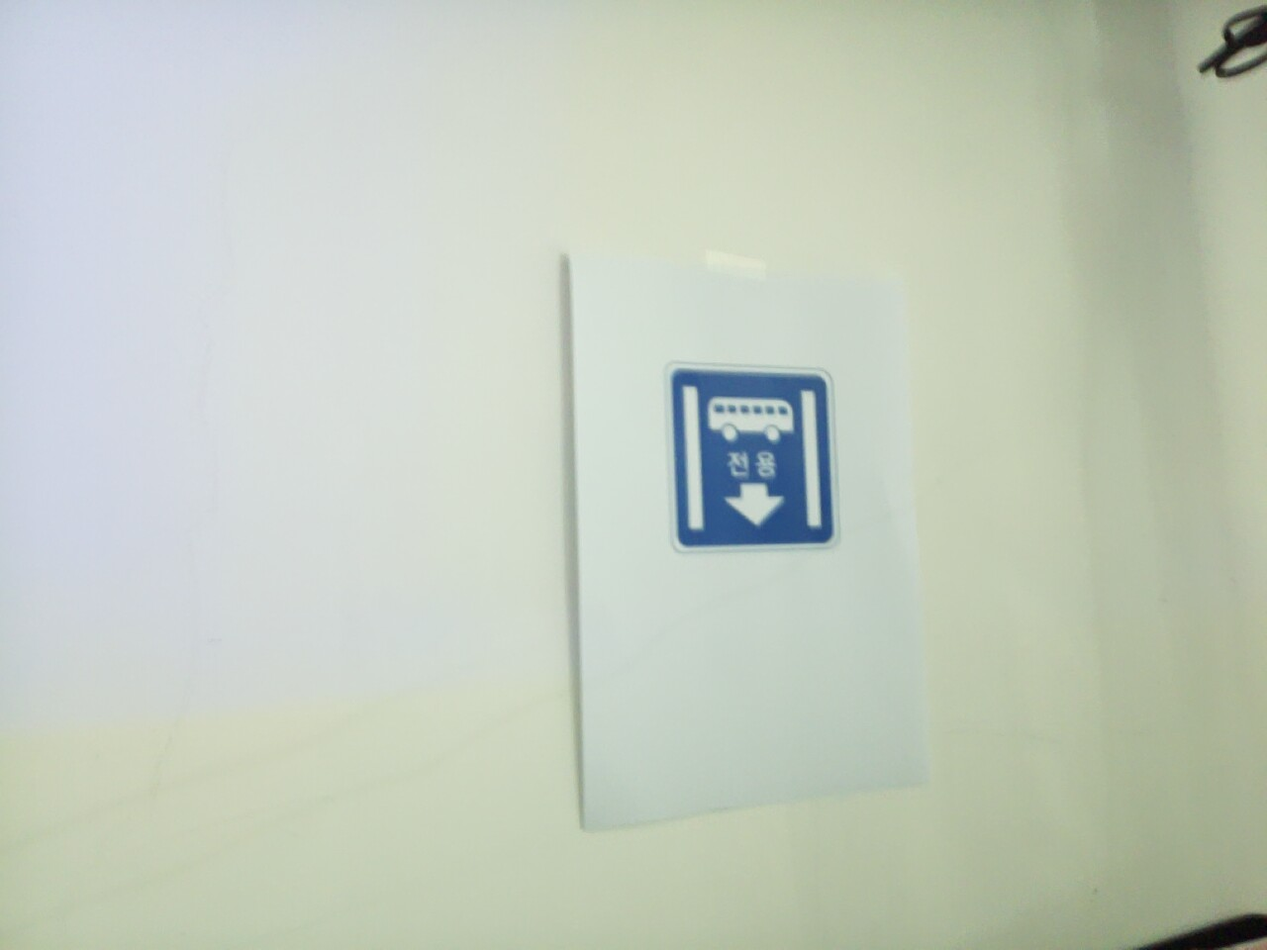bus_only_lane: (664, 361, 840, 554)
